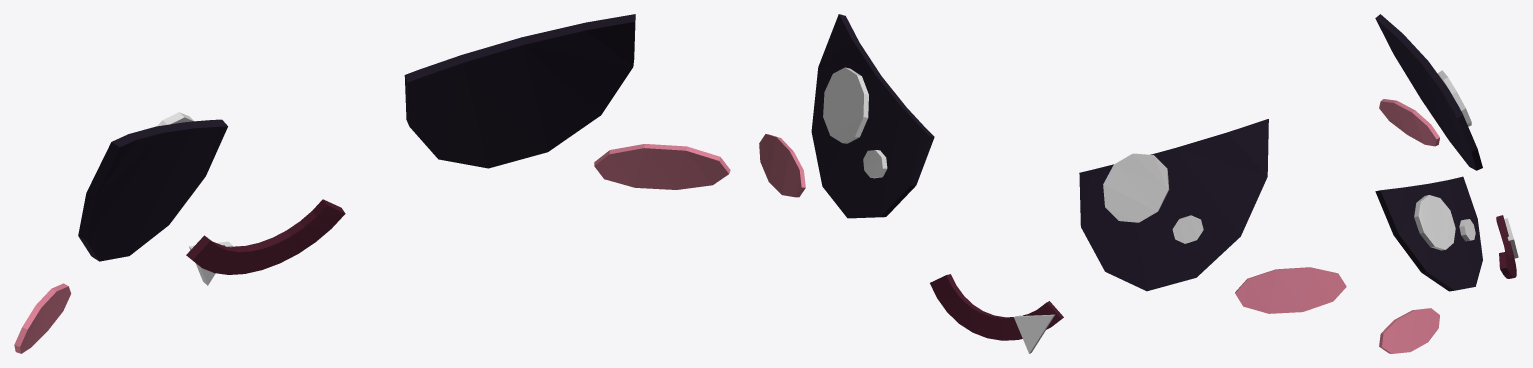
Rendered from slime_face_mischievous.fbx.
3 views of the same model, side by side, from view 1: azimuth 30°, elevation 25°; view 2: azimuth 150°, elevation 25°; view 3: azimuth 270°, elevation 25° (orthographic). The views are drawn at different scales.
Visible parts, largest first — view 1: slime_face_mischievous; view 2: slime_face_mischievous; view 3: slime_face_mischievous.
Part boxes in pixels (<box>): slime_face_mischievous: <box>14,14,730,353</box>; slime_face_mischievous: <box>759,14,1346,353</box>; slime_face_mischievous: <box>1375,14,1518,353</box>.
Bounding box in the file's own units: 2.02 × 0.7036 × 0.5074.
